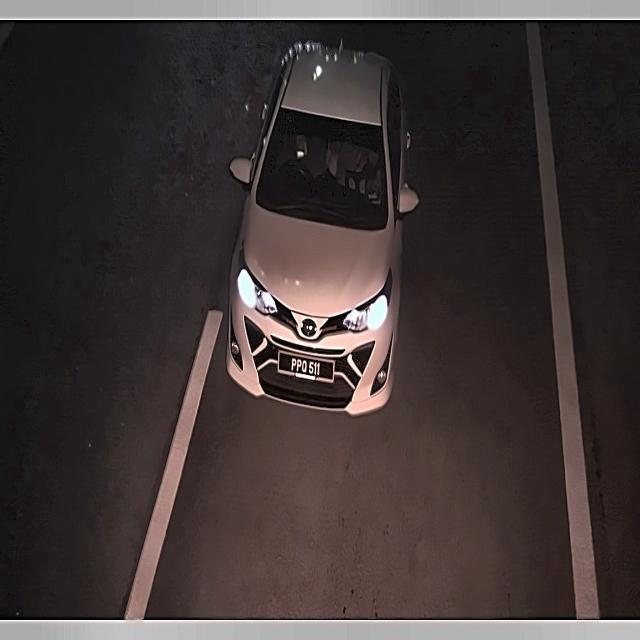car: (274, 343, 340, 388)
